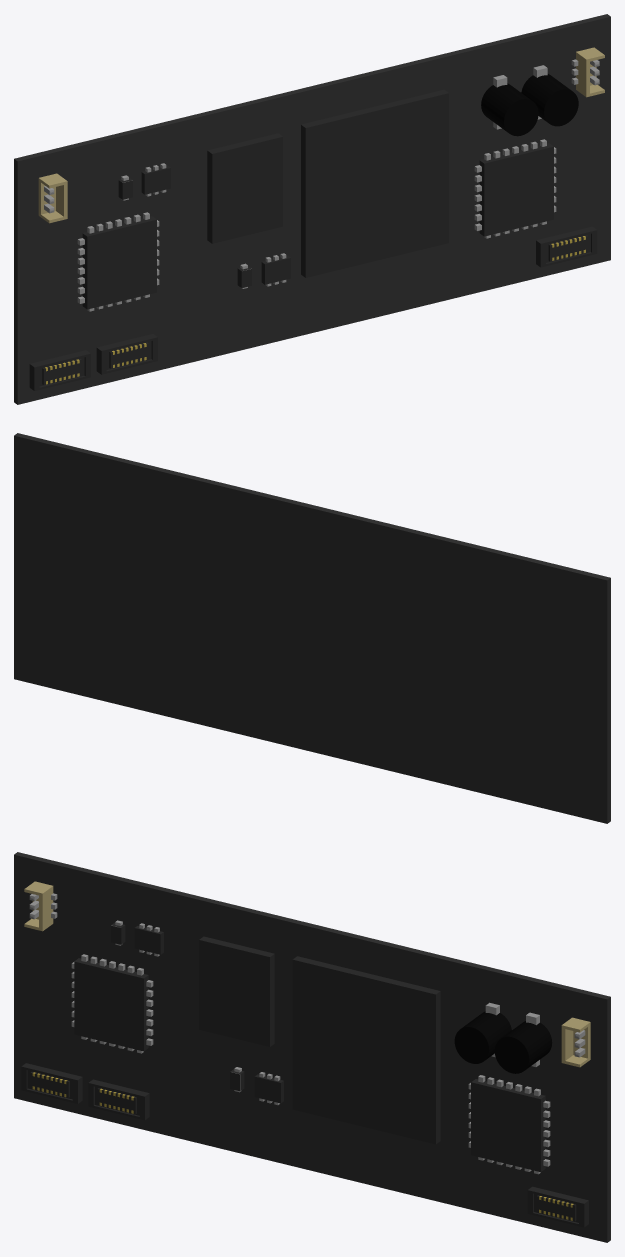
File: Mainboard.fbx
The picture shows the model from 3 angles, top to bottom: view 1: azimuth 30°, elevation 25°; view 2: azimuth 150°, elevation 25°; view 3: azimuth 330°, elevation 25°; orthographic projection.
Parts seen in each view (by area): view 1: Mainboard; view 2: Mainboard; view 3: Mainboard.
Part boxes in pixels (x1,y1,x2,y2): Mainboard: (14, 14, 610, 404); Mainboard: (14, 433, 610, 823); Mainboard: (14, 852, 610, 1242).
Bounding box in the file's own units: 68.47 × 26.85 × 5.3.
